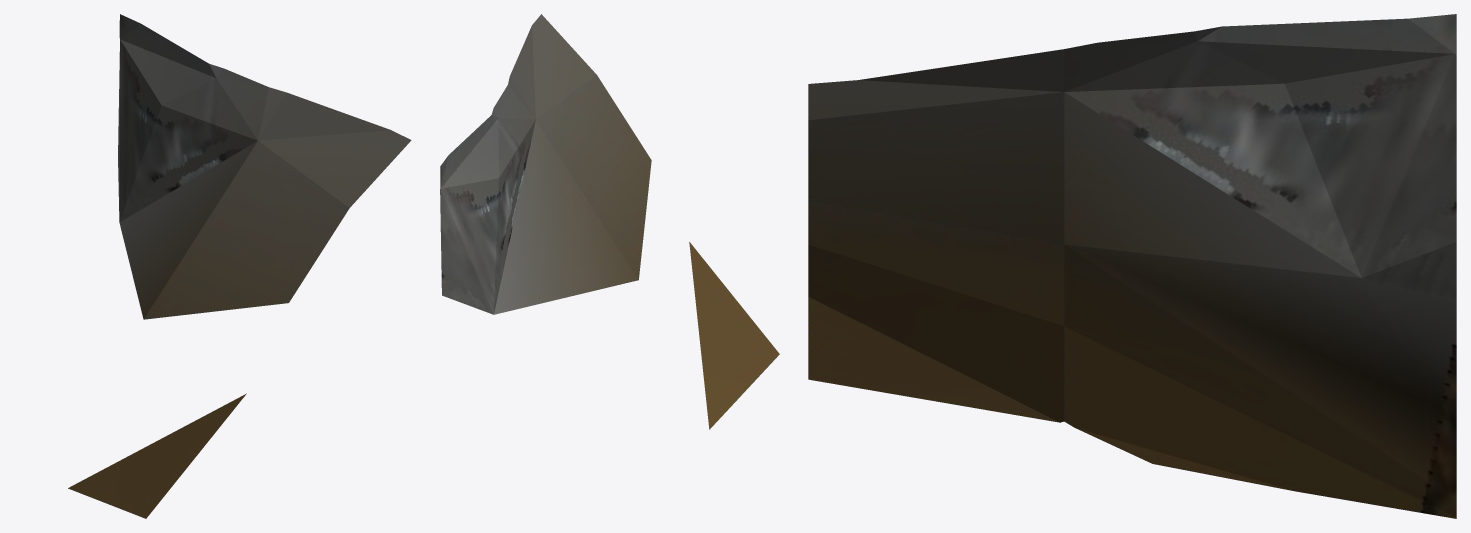
3 renders of one model, left to right at view 1: azimuth 30°, elevation 25°; view 2: azimuth 150°, elevation 25°; view 3: azimuth 270°, elevation 25°, orthographic. The views are drawn at different scales.
Bounding box in the file's own units: 0.6347 × 0.8373 × 0.8373.
3 materials, 3 textured.
